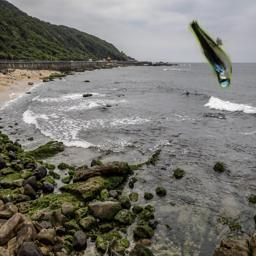Swallow: (188, 19, 232, 89)
